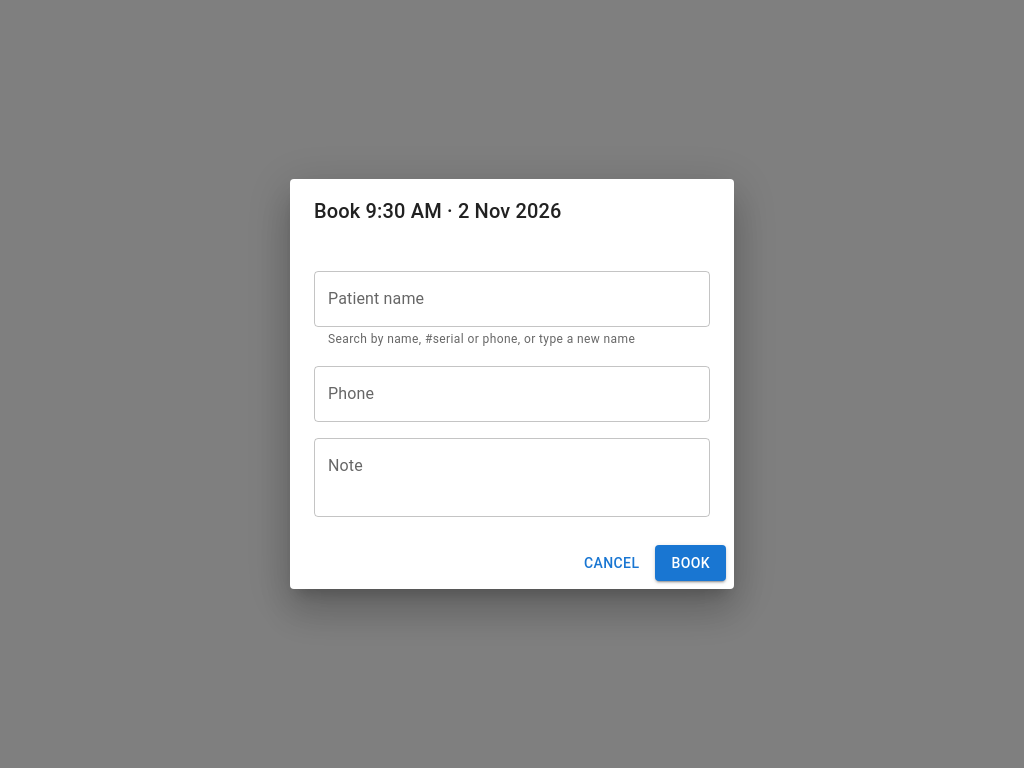
matches patients by phone
The width and height of the screenshot is (1024, 768).
Step 1. Type "90000" into the dropdown labelled "Patient name" → (512, 299), box 323,280 -> 701,318
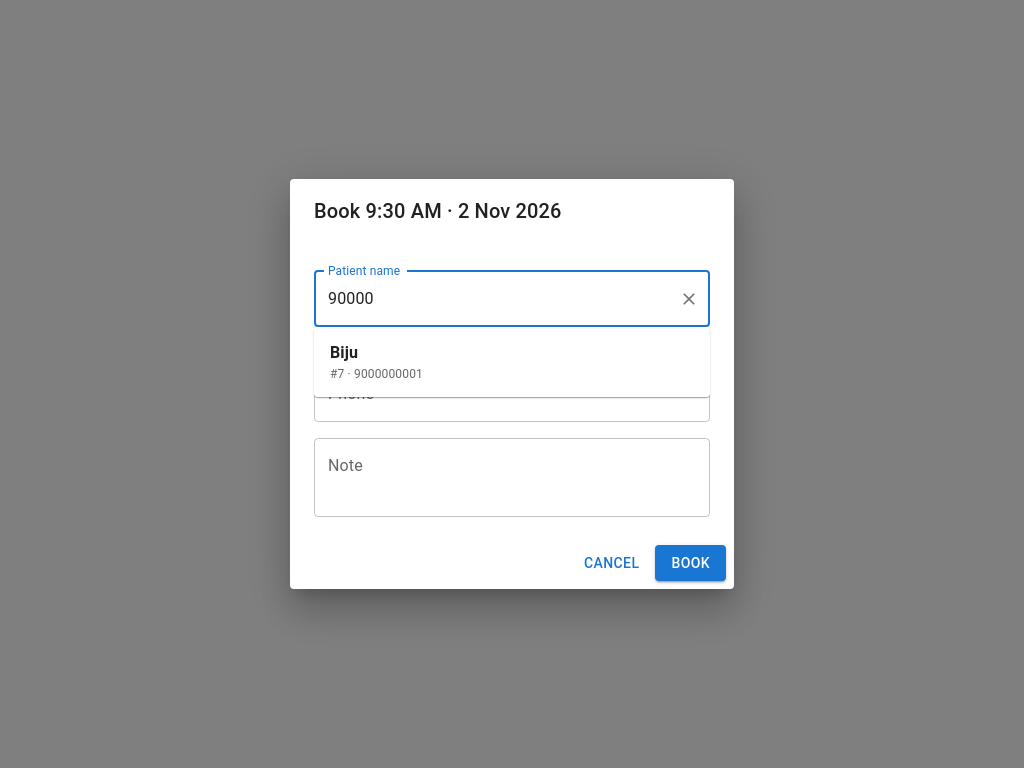
Check: the option "Biju #7 · 9000000001" is shown, box 330,343 -> 423,381
